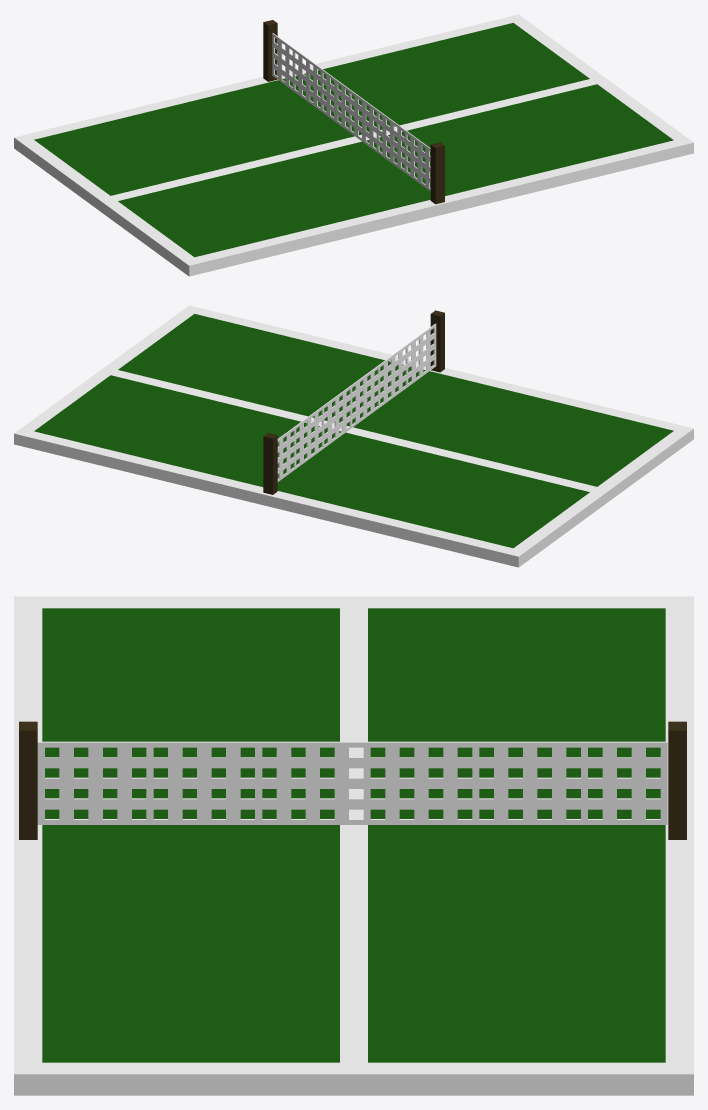
File: ping pong table.fbx
3 renders of one model, top to bottom at view 1: azimuth 30°, elevation 25°; view 2: azimuth 150°, elevation 25°; view 3: azimuth 270°, elevation 25°, orthographic. The views are drawn at different scales.
Visible parts, largest first — view 1: Cube, Plane, Cube.002; view 2: Cube, Plane, Cube.002; view 3: Cube, Plane, Cube.002.
Part boxes in pixels (left/top/right/bottom): Cube: left=14, top=14, right=693, bottom=276; Plane: left=272, top=33, right=430, bottom=191; Cube.002: left=263, top=20, right=444, bottom=204; Cube: left=14, top=305, right=693, bottom=567; Plane: left=277, top=323, right=436, bottom=481; Cube.002: left=263, top=310, right=444, bottom=494; Cube: left=14, top=596, right=693, bottom=1095; Plane: left=37, top=741, right=667, bottom=824; Cube.002: left=19, top=721, right=686, bottom=839.
Size of the model in its own units: 869 by 111 by 523.
